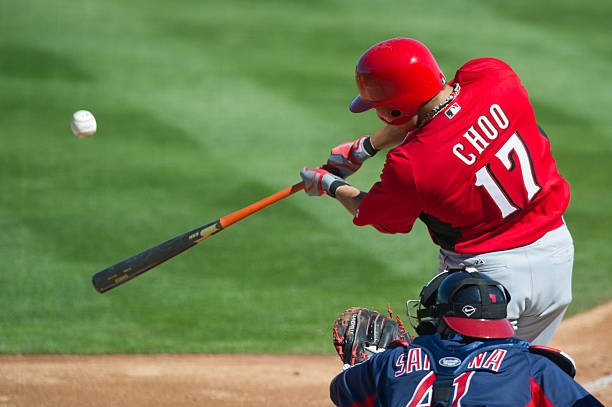bita: (90, 166, 352, 296)
